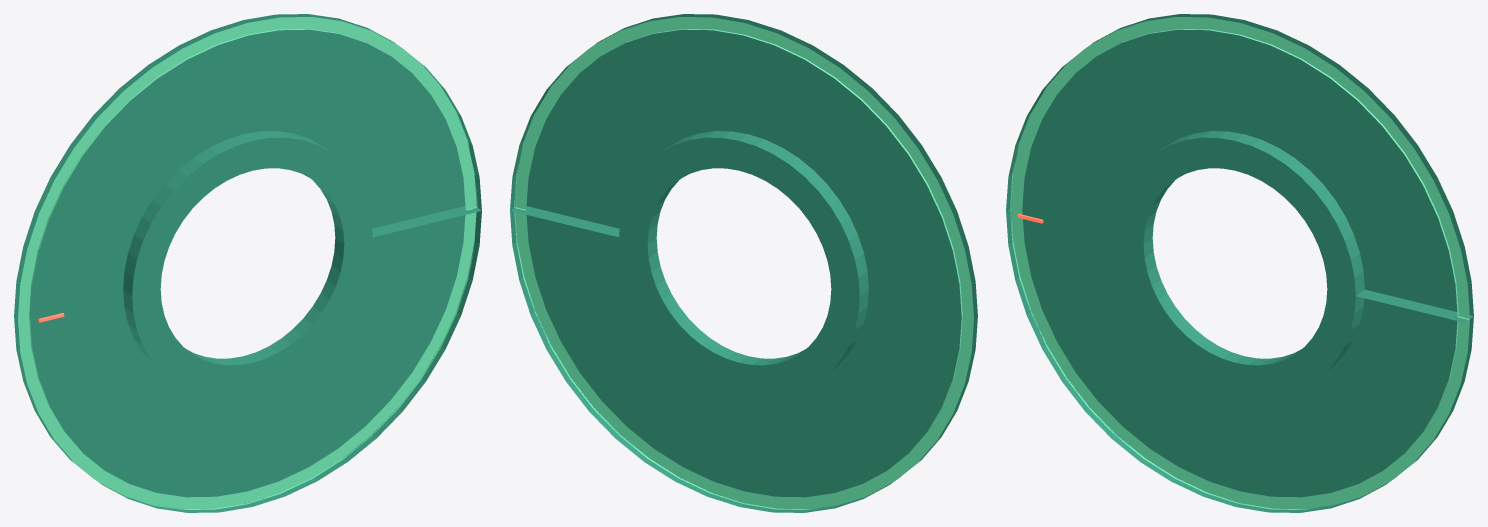
Rendered from bio-panel-fun8-medium.glb.
3 views of the same model, side by side, from view 1: azimuth 30°, elevation 25°; view 2: azimuth 150°, elevation 25°; view 3: azimuth 330°, elevation 25° (orthographic).
Parts seen in each view (by area): view 1: RENDER_PANEL_SHELL, RENDER_PANEL_FRAME; view 2: RENDER_PANEL_SHELL, RENDER_PANEL_FRAME; view 3: RENDER_PANEL_SHELL, RENDER_PANEL_FRAME.
Boxes of the visible parts, x1,y1,x2,y2 form: RENDER_PANEL_SHELL: (14, 14, 481, 512); RENDER_PANEL_FRAME: (18, 17, 477, 509); RENDER_PANEL_SHELL: (510, 14, 977, 512); RENDER_PANEL_FRAME: (514, 17, 973, 509); RENDER_PANEL_SHELL: (1006, 14, 1473, 512); RENDER_PANEL_FRAME: (1010, 17, 1469, 509).
Size of what is drawn, in the model's own units: 41 by 41 by 1.81.
